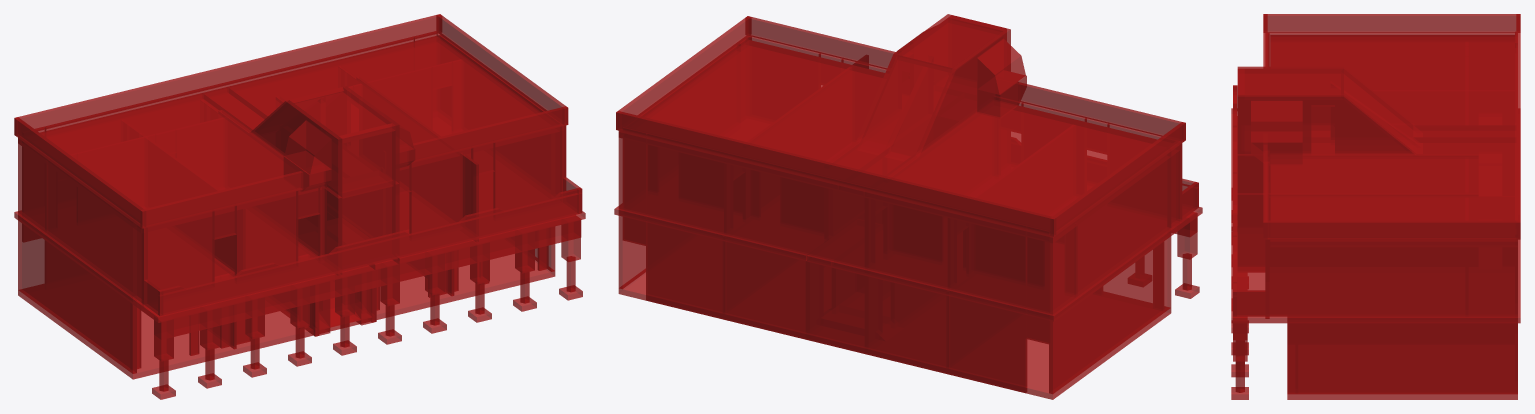
The model's file is SM_Bld_Shop_06_Collision.fbx.
The picture shows the model from 3 angles, left to right: view 1: azimuth 30°, elevation 25°; view 2: azimuth 150°, elevation 25°; view 3: azimuth 270°, elevation 25°; orthographic projection. The views are drawn at different scales.
Parts seen in each view (by area): view 1: SM_Bld_Shop_06_Collision; view 2: SM_Bld_Shop_06_Collision; view 3: SM_Bld_Shop_06_Collision.
Boxes of the visible parts, x1=… form: SM_Bld_Shop_06_Collision: x1=14, y1=14, x2=585, y2=399; SM_Bld_Shop_06_Collision: x1=614, y1=14, x2=1202, y2=399; SM_Bld_Shop_06_Collision: x1=1231, y1=14, x2=1520, y2=399.
Bounding box in the file's own units: 2147 × 1028 × 1255.
